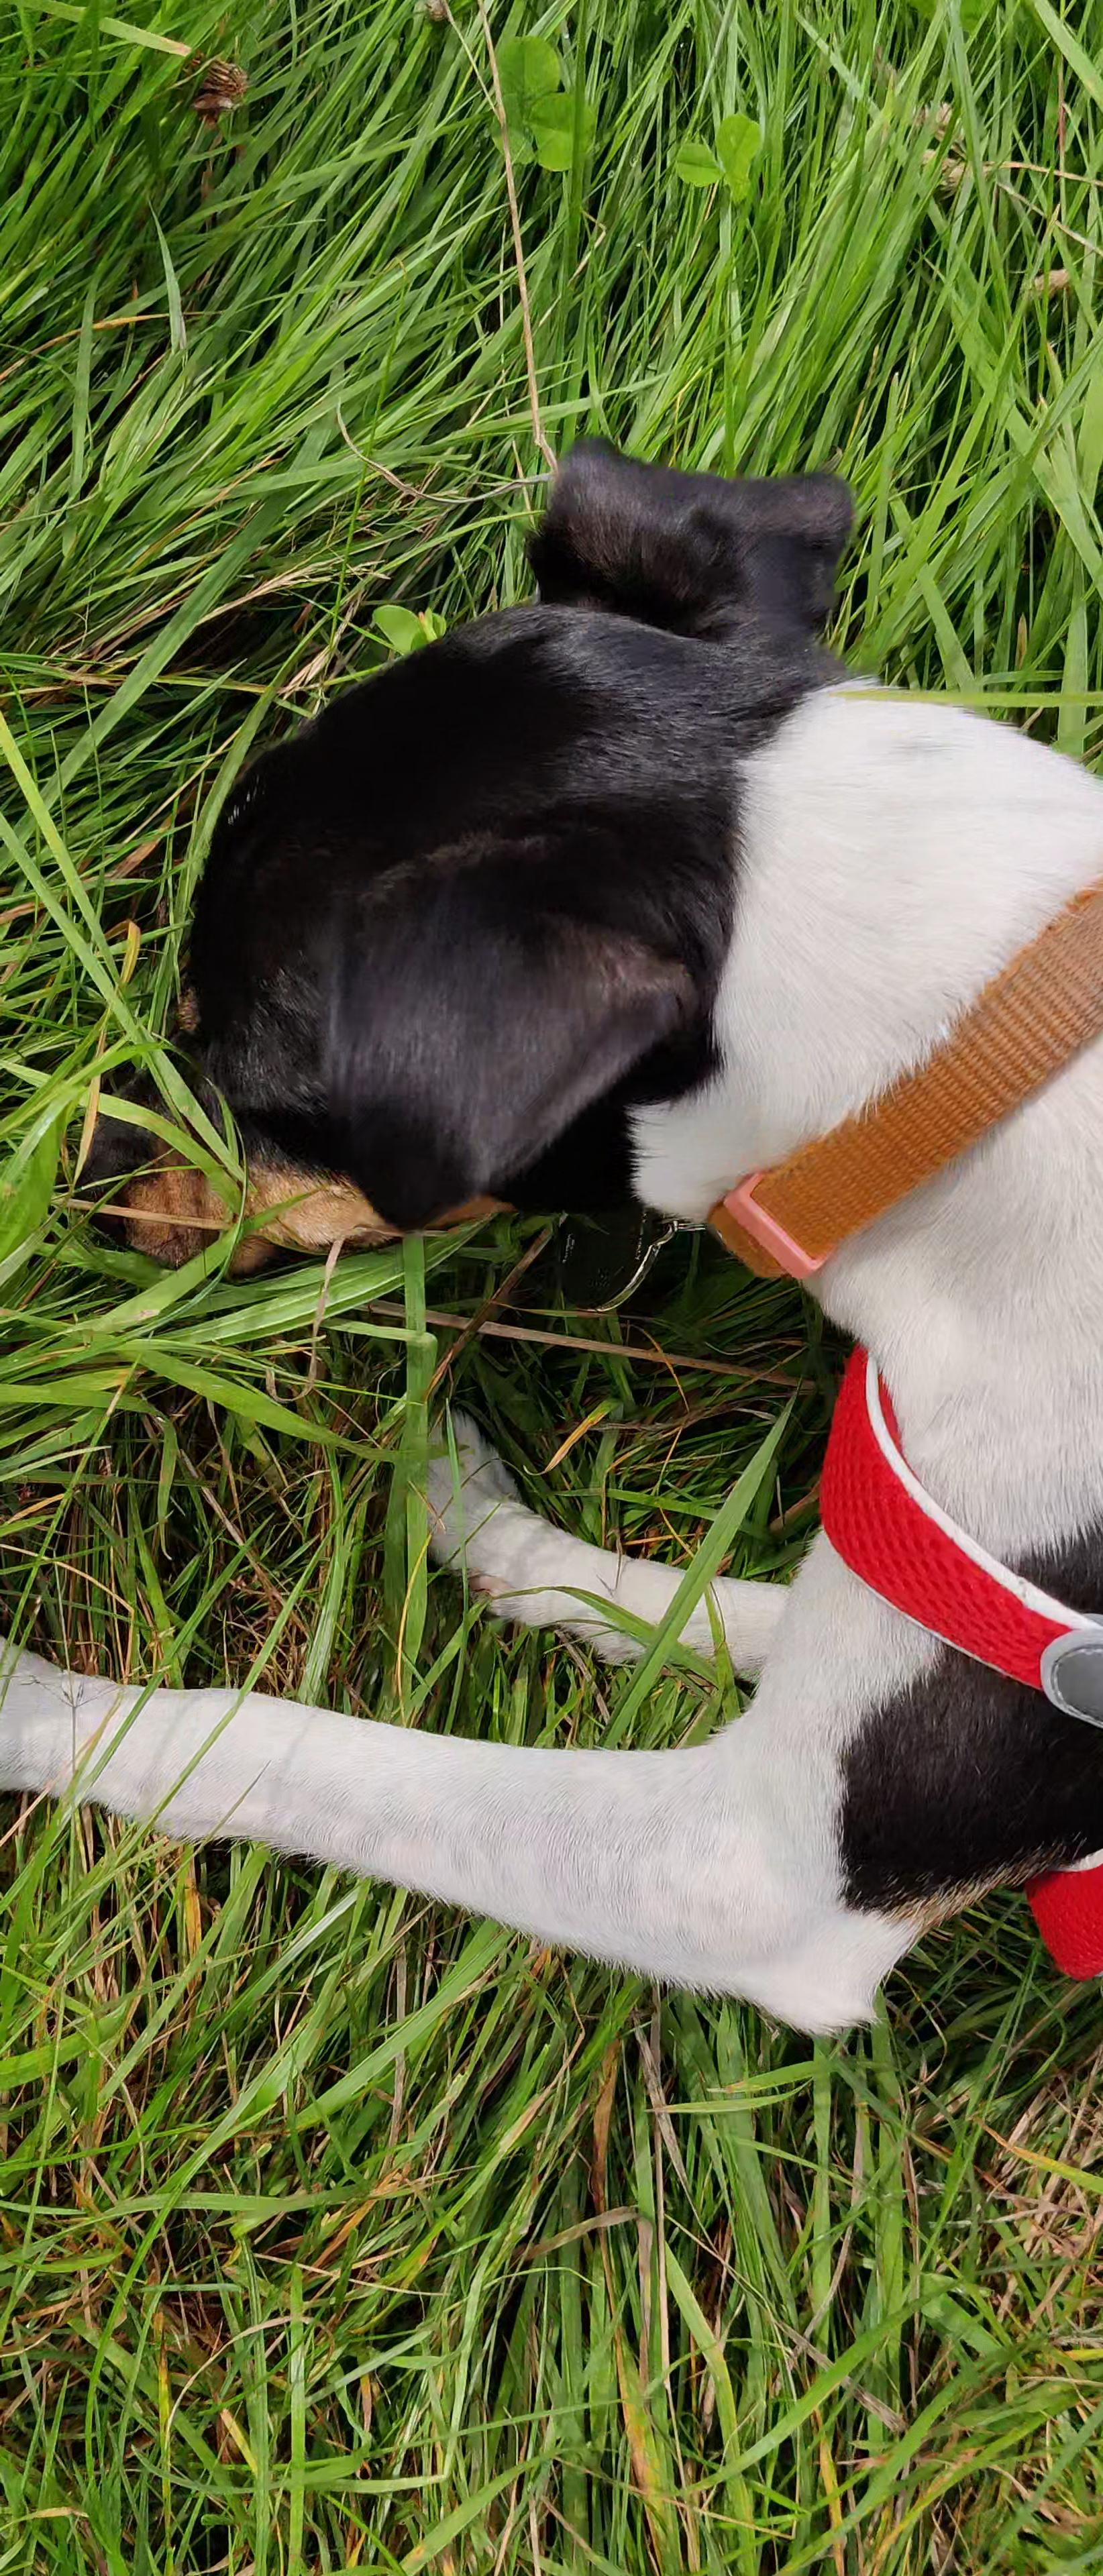Dog: (0, 435, 1103, 2057)
